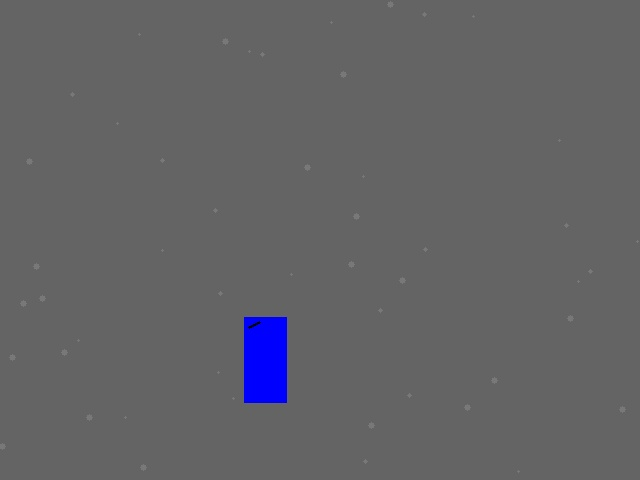motorcycle: (244, 317, 286, 402)
